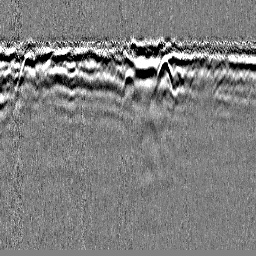cavity: (121, 68, 136, 94)
